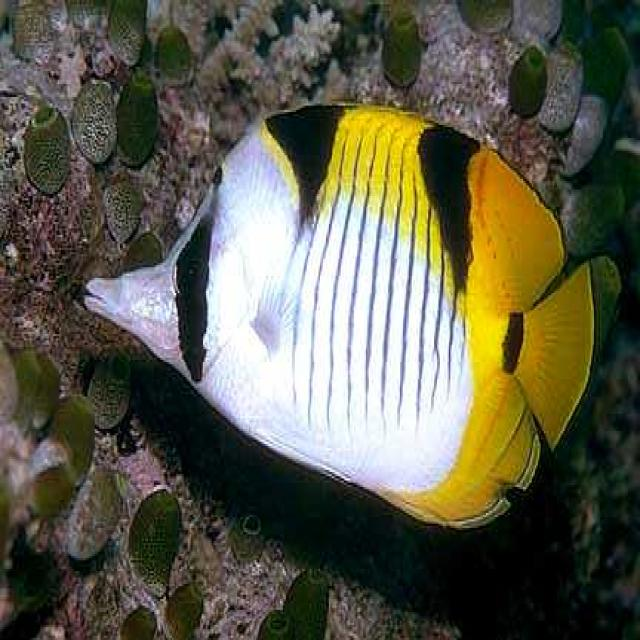ButterflyFish: (92, 97, 594, 532)
